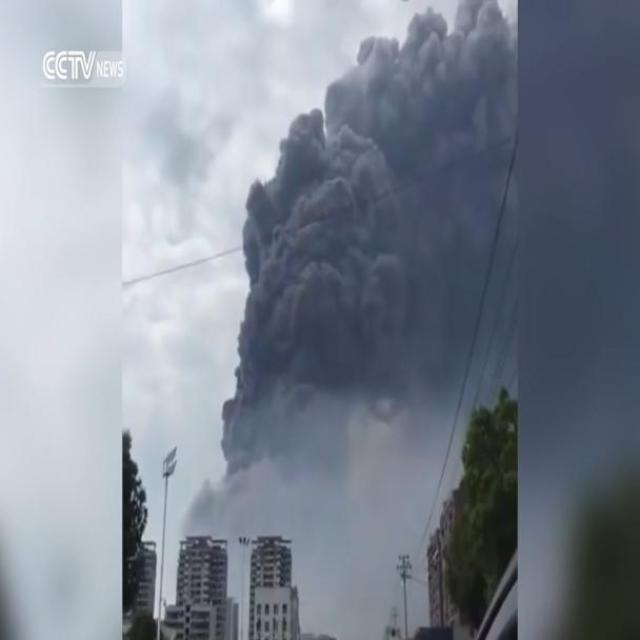Smoke: (257, 59, 504, 453)
